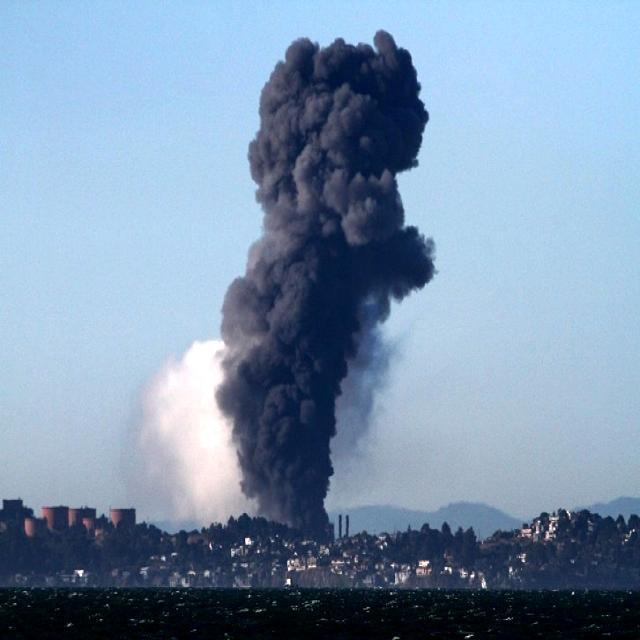Smoke: (221, 20, 429, 514)
